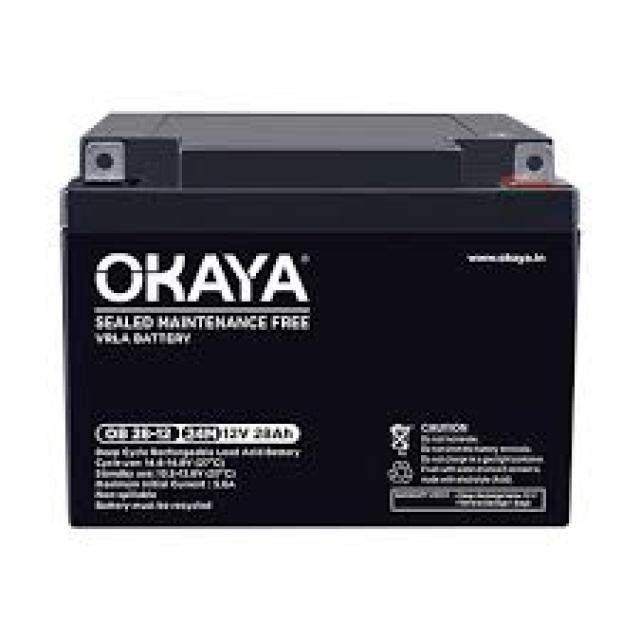Battery: (58, 115, 563, 536)
